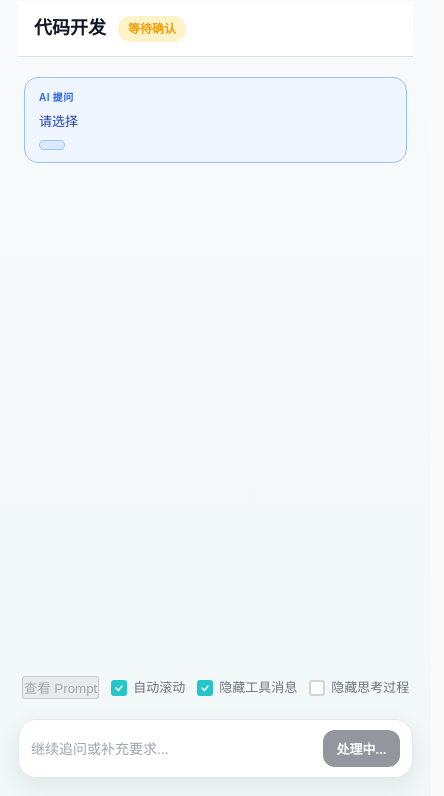
Test: StepSessionPanel › falls back to value when an AskUserQuestion option has no label
Step 1. Click the button with class "event-ask-user-option-btn" → (52, 145), box [39,140,65,150]
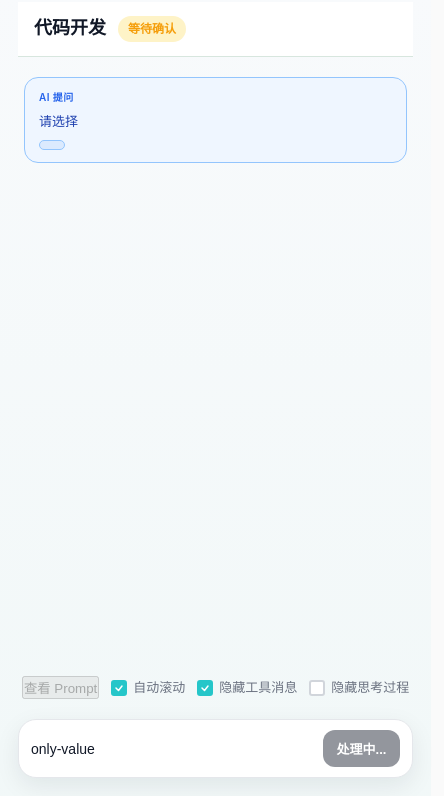
Expected: the field holds "only-value", [31,730,312,766]
